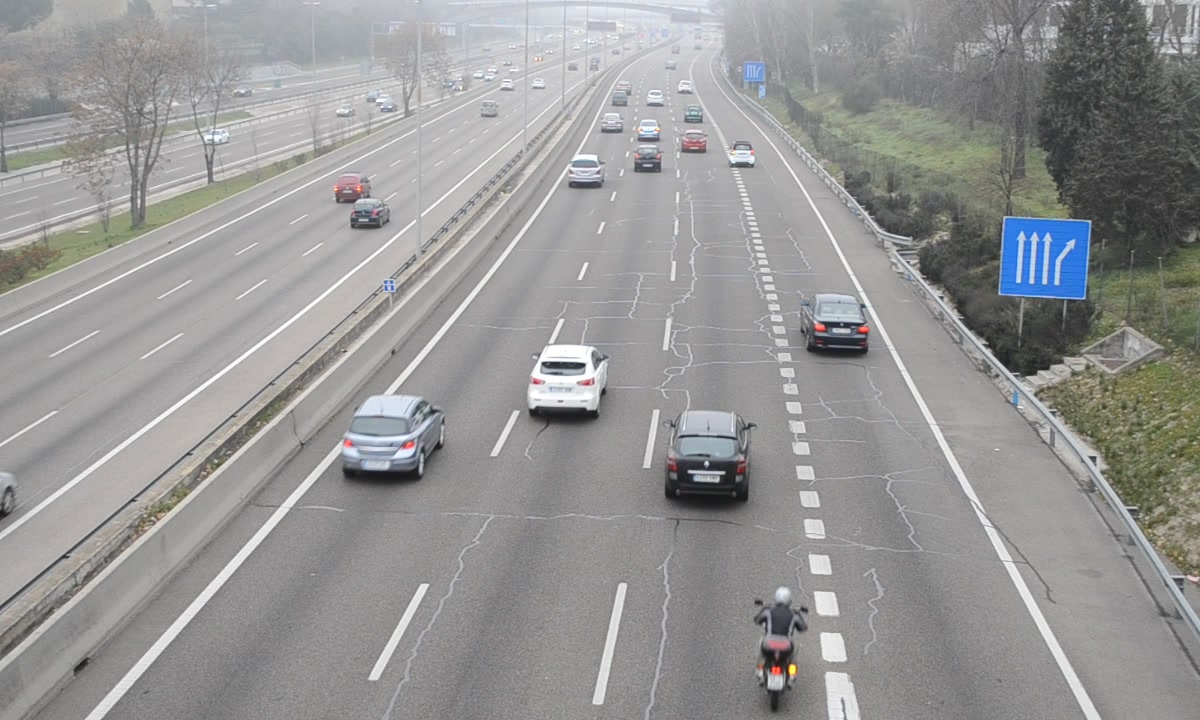car: (341, 396, 442, 479), (666, 410, 750, 504), (528, 344, 610, 420), (800, 293, 868, 351), (567, 155, 606, 189), (727, 139, 756, 169), (635, 143, 663, 172), (681, 130, 709, 155), (637, 118, 662, 143), (599, 112, 625, 135)
motorcycle: (748, 588, 813, 712)
